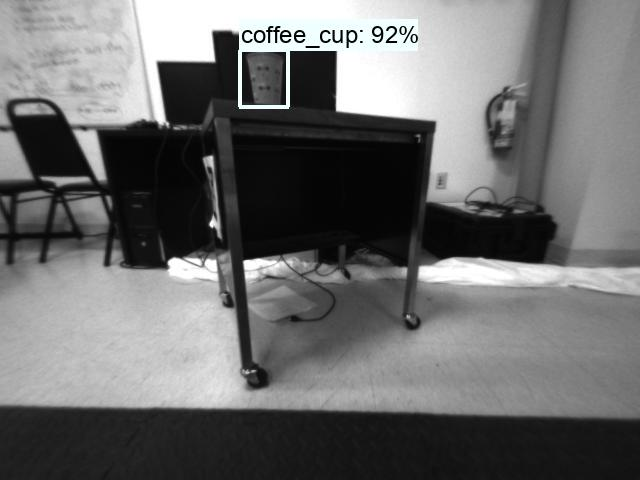coffee_cup: (240, 50, 291, 107)
